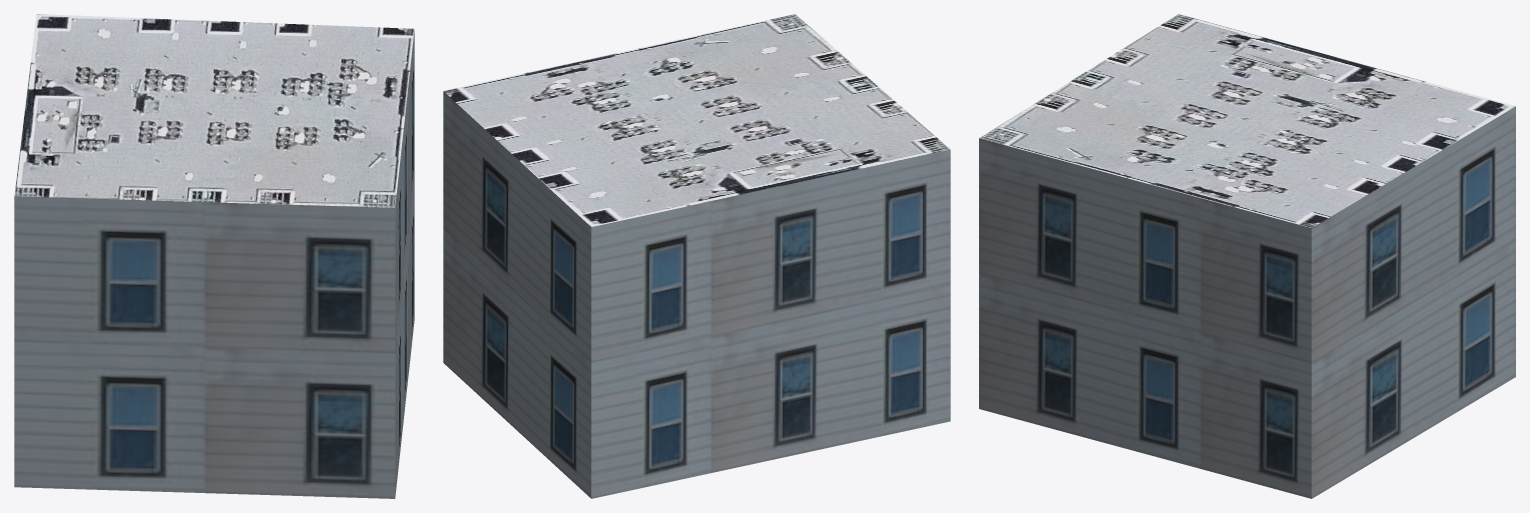
The model's file is ResTex__3716.fbx.
The picture shows the model from 3 angles, left to right: view 1: azimuth 30°, elevation 25°; view 2: azimuth 150°, elevation 25°; view 3: azimuth 270°, elevation 25°; orthographic projection. The views are drawn at different scales.
Visible parts, largest first — view 1: CityEngineMaterial_18_m, CityEngineMaterial_4_m; view 2: CityEngineMaterial_18_m, CityEngineMaterial_4_m; view 3: CityEngineMaterial_18_m, CityEngineMaterial_4_m.
Part boxes in pixels (x1,y1,x2,y2): CityEngineMaterial_18_m: (14,30,414,498); CityEngineMaterial_4_m: (14,14,414,207); CityEngineMaterial_18_m: (443,91,950,498); CityEngineMaterial_4_m: (443,14,950,226); CityEngineMaterial_18_m: (979,106,1515,498); CityEngineMaterial_4_m: (979,14,1515,227).
Size of the model in its own units: 10.18 by 6 by 10.78.
2 materials, 2 textured.
